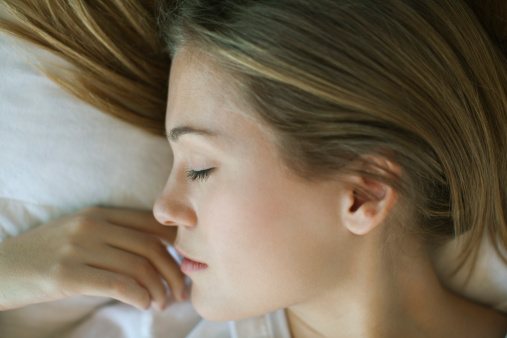deitado: (0, 26, 469, 338)
